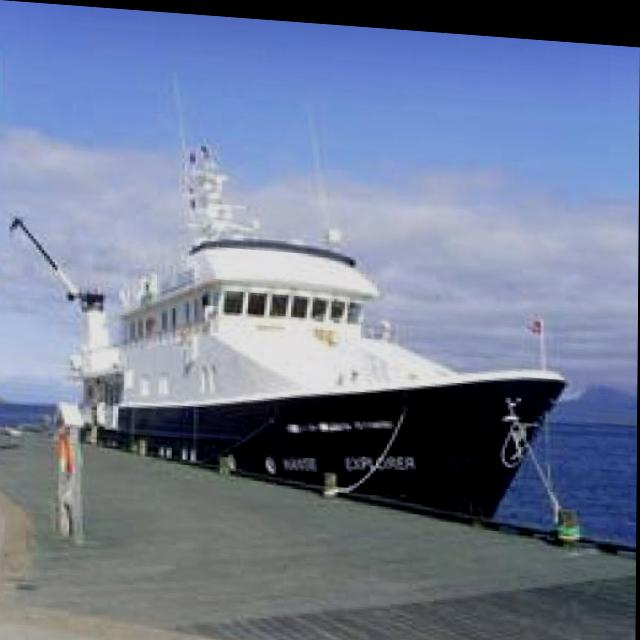ship2: (16, 65, 571, 518)
